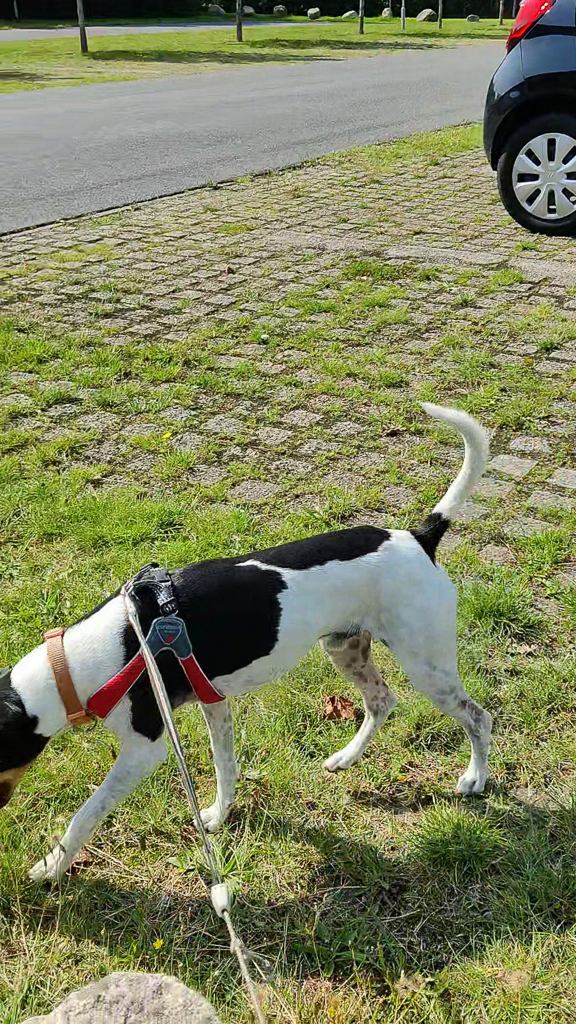Dog: (0, 372, 526, 924)
